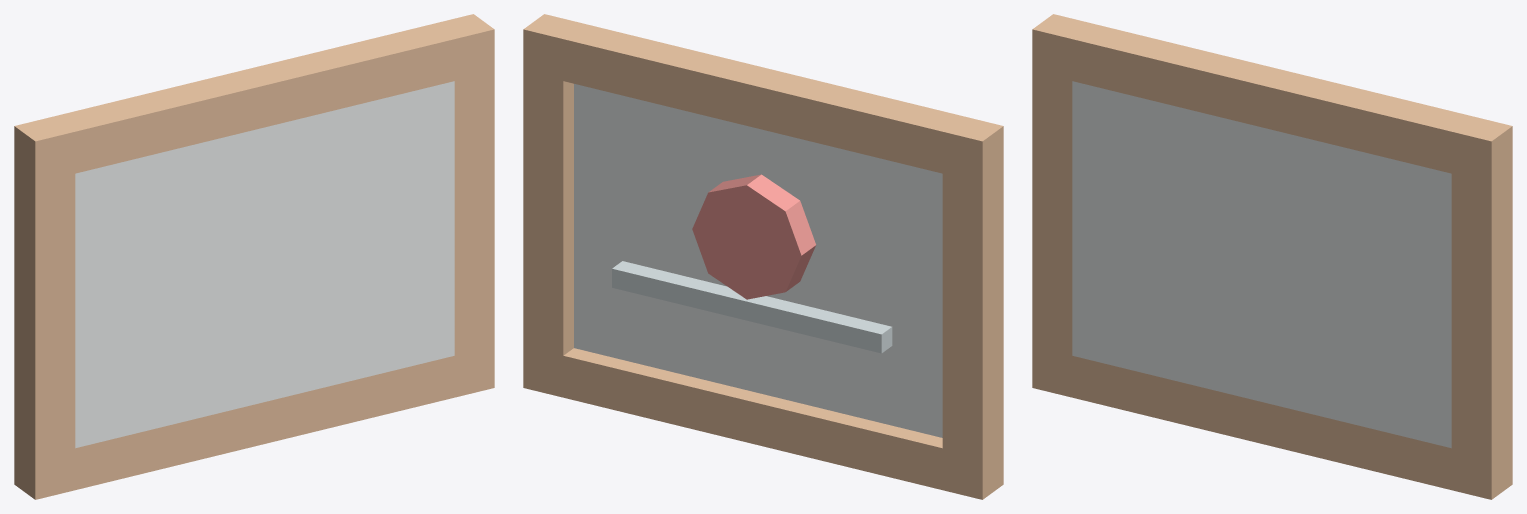
The model's file is diner_wall_art_a.glb.
The picture shows the model from 3 angles, left to right: view 1: azimuth 30°, elevation 25°; view 2: azimuth 150°, elevation 25°; view 3: azimuth 330°, elevation 25°; orthographic projection.
Visible parts, largest first — view 1: wall_art_a_canvas, wall_art_a_frame_top, wall_art_a_frame_bottom, wall_art_a_frame_left, wall_art_a_frame_right; view 2: wall_art_a_canvas, wall_art_a_frame_top, wall_art_a_frame_bottom, wall_art_a_frame_left, wall_art_a_frame_right, wall_art_a_sun, wall_art_a_horizon; view 3: wall_art_a_canvas, wall_art_a_frame_top, wall_art_a_frame_bottom, wall_art_a_frame_right, wall_art_a_frame_left.
Part boxes in pixels (x1,y1,x2,y2): wall_art_a_canvas: [75, 81, 454, 448]; wall_art_a_frame_top: [14, 14, 494, 183]; wall_art_a_frame_bottom: [14, 346, 494, 499]; wall_art_a_frame_left: [14, 168, 75, 457]; wall_art_a_frame_right: [454, 71, 494, 355]; wall_art_a_canvas: [574, 84, 942, 437]; wall_art_a_frame_top: [523, 14, 1003, 183]; wall_art_a_frame_bottom: [523, 346, 1003, 499]; wall_art_a_frame_left: [942, 168, 1003, 457]; wall_art_a_frame_right: [523, 71, 573, 355]; wall_art_a_sun: [692, 174, 815, 299]; wall_art_a_horizon: [612, 261, 892, 353]; wall_art_a_canvas: [1072, 81, 1451, 448]; wall_art_a_frame_top: [1032, 14, 1512, 183]; wall_art_a_frame_bottom: [1032, 346, 1512, 499]; wall_art_a_frame_right: [1451, 168, 1512, 457]; wall_art_a_frame_left: [1032, 71, 1072, 355].
Bounding box in the file's own units: 0.63 × 0.47 × 0.0645.
